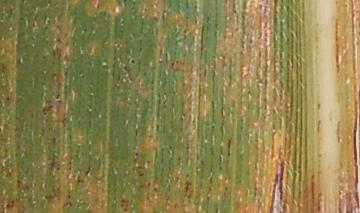tarspot: (129, 58, 136, 66), (133, 150, 139, 158), (5, 95, 11, 102)
